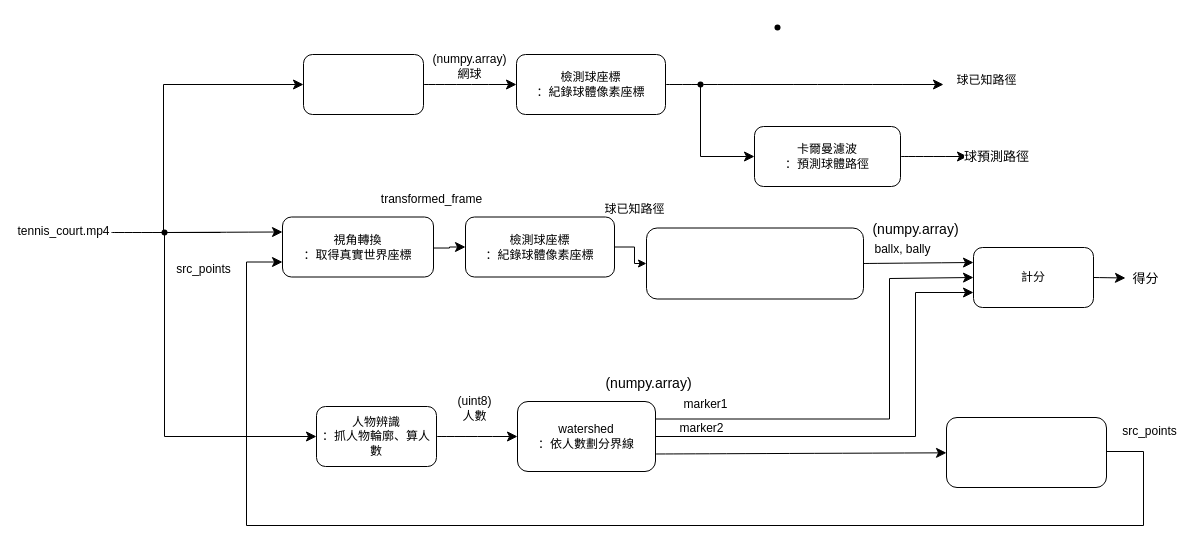
Image size: 1203x553. Some labels were removed from this diagram. The centre of each missing label's shape, as x and y in pixels:
"Harris ：追蹤、鎖定4個角點" belongs at point 1026,452.
"HSV ：取前景(網球)" belongs at point 363,84.
"球落點 ：紀錄bounce藍點標示、球速" belongs at point 755,263.
